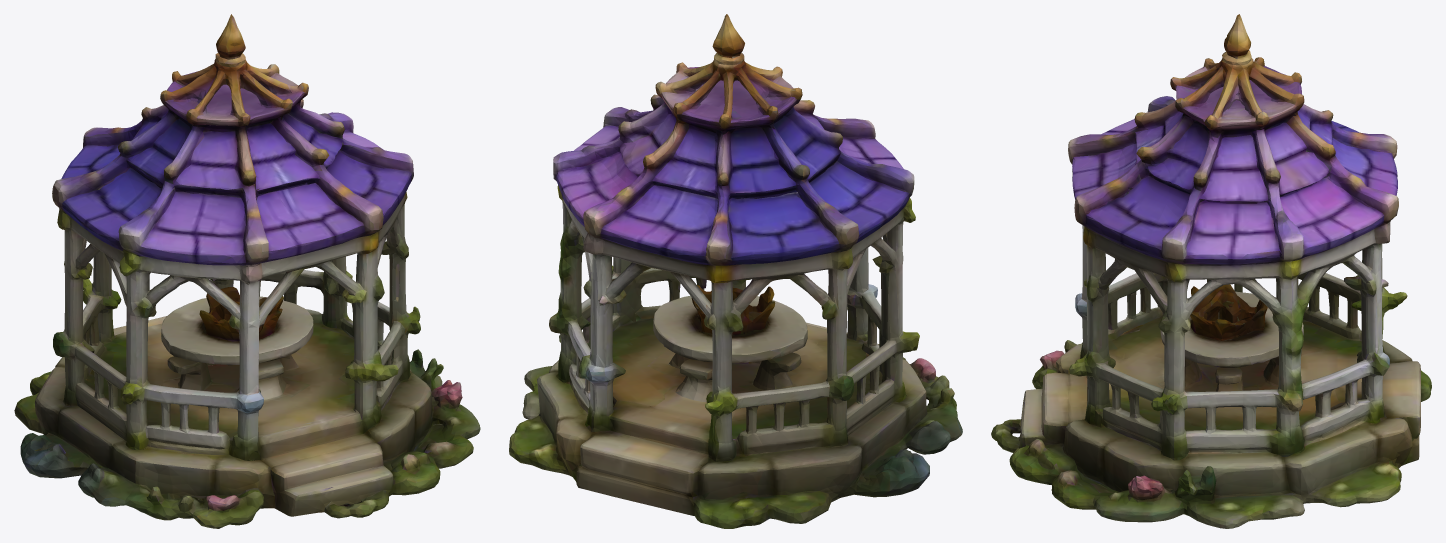
The picture shows the model from 3 angles, left to right: view 1: azimuth 30°, elevation 25°; view 2: azimuth 150°, elevation 25°; view 3: azimuth 270°, elevation 25°; orthographic projection.
Visible parts, largest first — view 1: world; view 2: world; view 3: world.
Boxes of the visible parts, x1,y1,x2,y2 form: world: (14,14,480,528); world: (509,14,962,528); world: (991,14,1431,528).
Bounding box in the file's own units: 0.9891 × 0.9754 × 0.9302.
Materials: 1 (1 with a texture image).
